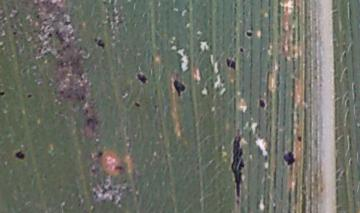tarspot: (230, 134, 246, 198), (172, 78, 187, 98), (282, 149, 296, 167), (135, 72, 148, 84), (225, 57, 237, 70), (14, 149, 26, 161), (96, 38, 106, 51), (258, 98, 266, 110), (244, 30, 254, 38), (63, 19, 73, 27), (113, 165, 123, 172), (25, 92, 33, 100), (96, 151, 104, 159), (234, 198, 241, 207), (132, 101, 140, 108), (238, 46, 245, 53), (296, 135, 302, 143), (47, 32, 53, 39), (58, 89, 65, 95), (80, 94, 85, 102), (1, 90, 5, 99), (11, 30, 17, 36), (35, 13, 40, 19)
